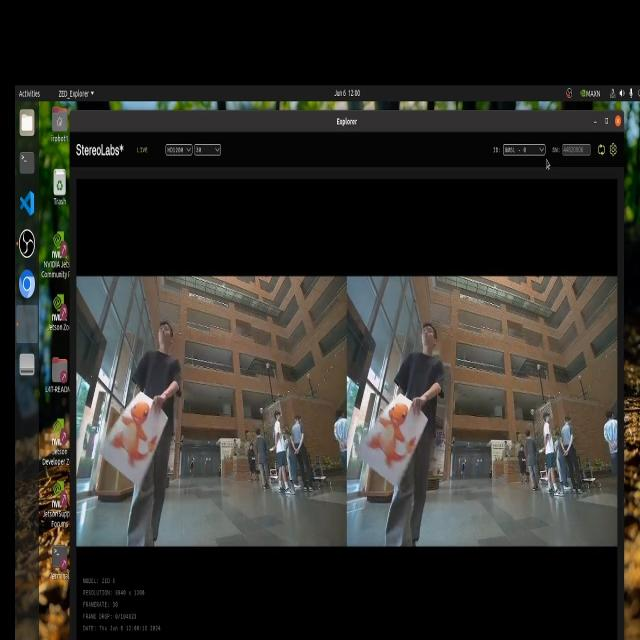red: (106, 398, 158, 462), (375, 396, 420, 458)
